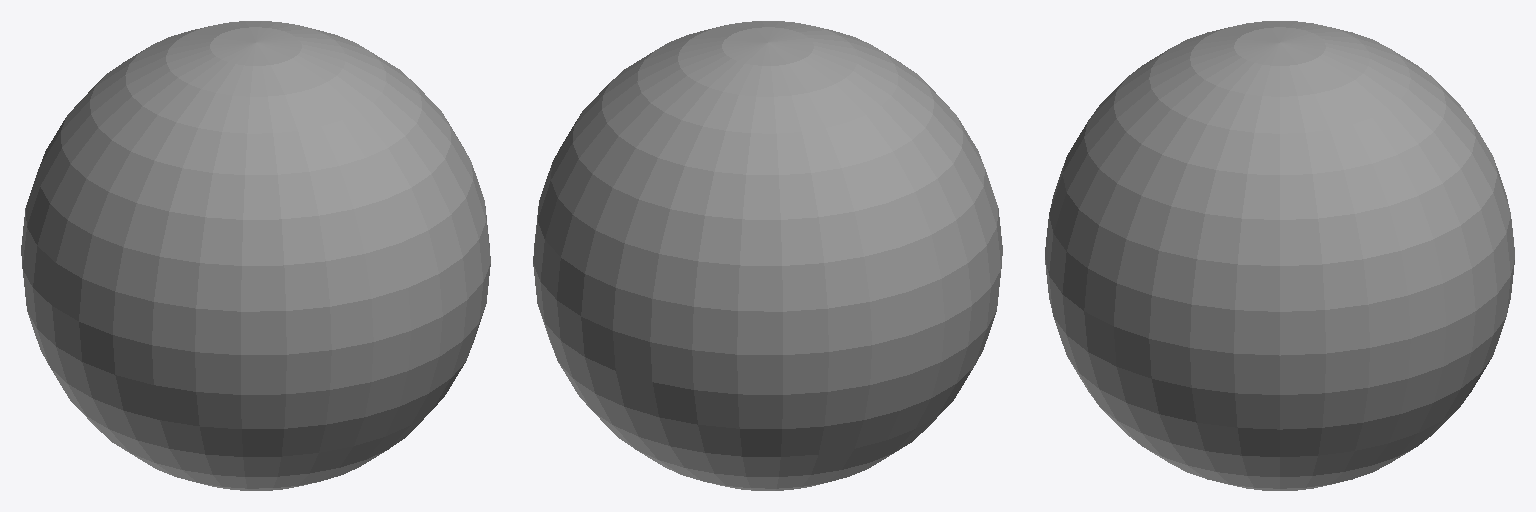
Rendered from gijsEarth.obj.
3 renders of one model, left to right at view 1: azimuth 30°, elevation 25°; view 2: azimuth 150°, elevation 25°; view 3: azimuth 270°, elevation 25°, orthographic.
Visible parts, largest first — view 1: Sphere; view 2: Sphere; view 3: Sphere.
Part boxes in pixels (x1,y1,x2,y2): Sphere: (21, 21, 490, 490); Sphere: (533, 21, 1002, 490); Sphere: (1045, 21, 1514, 490).
Size of the model in its own units: 2 by 2 by 2.